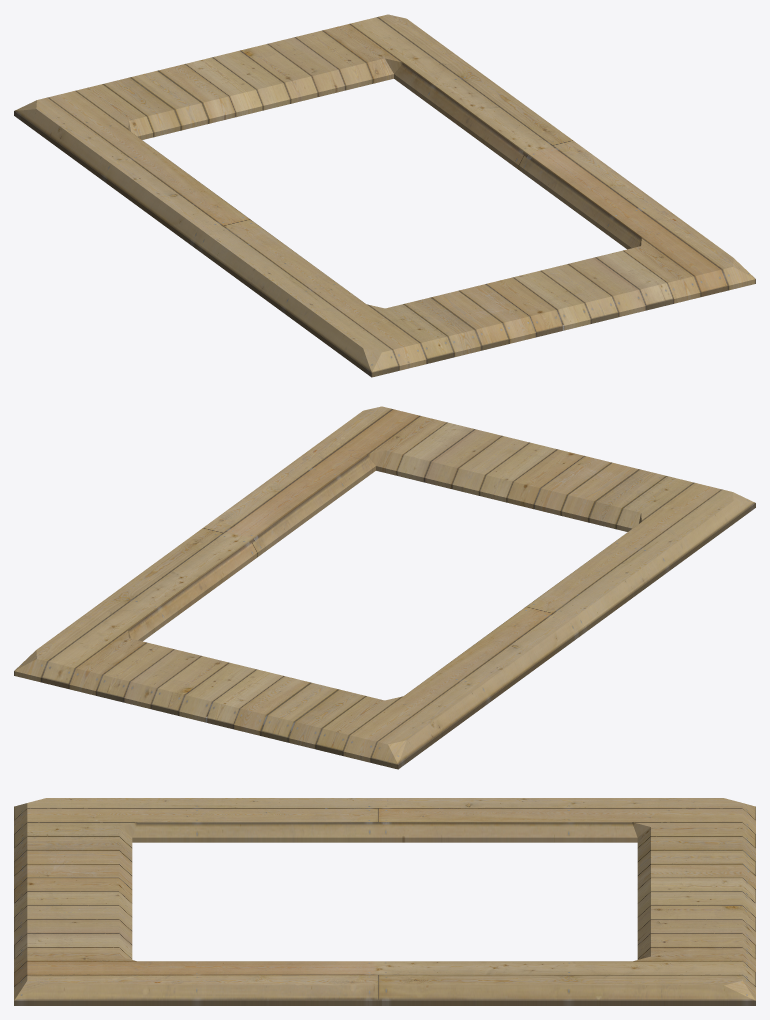
File: top bed.fbx
3 renders of one model, top to bottom at view 1: azimuth 30°, elevation 25°; view 2: azimuth 150°, elevation 25°; view 3: azimuth 270°, elevation 25°, orthographic. The views are drawn at different scales.
Visible parts, largest first — view 1: bed roof; view 2: bed roof; view 3: bed roof.
Part boxes in pixels (x1=…): bed roof: x1=14, y1=14, x2=755, y2=377; bed roof: x1=14, y1=406, x2=755, y2=769; bed roof: x1=14, y1=798, x2=755, y2=1005.
Size of the model in its own units: 358 by 14.55 by 578.
